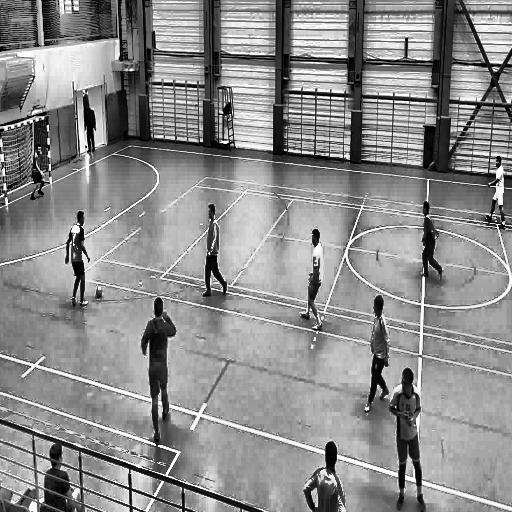ball: (93, 283, 104, 302)
player: (140, 296, 176, 448), (390, 366, 427, 512), (363, 293, 391, 415), (304, 438, 347, 512), (64, 197, 91, 312), (200, 202, 228, 301), (300, 226, 326, 332), (419, 201, 445, 282), (486, 153, 506, 232), (29, 142, 50, 204), (82, 104, 98, 160), (84, 104, 97, 156)
